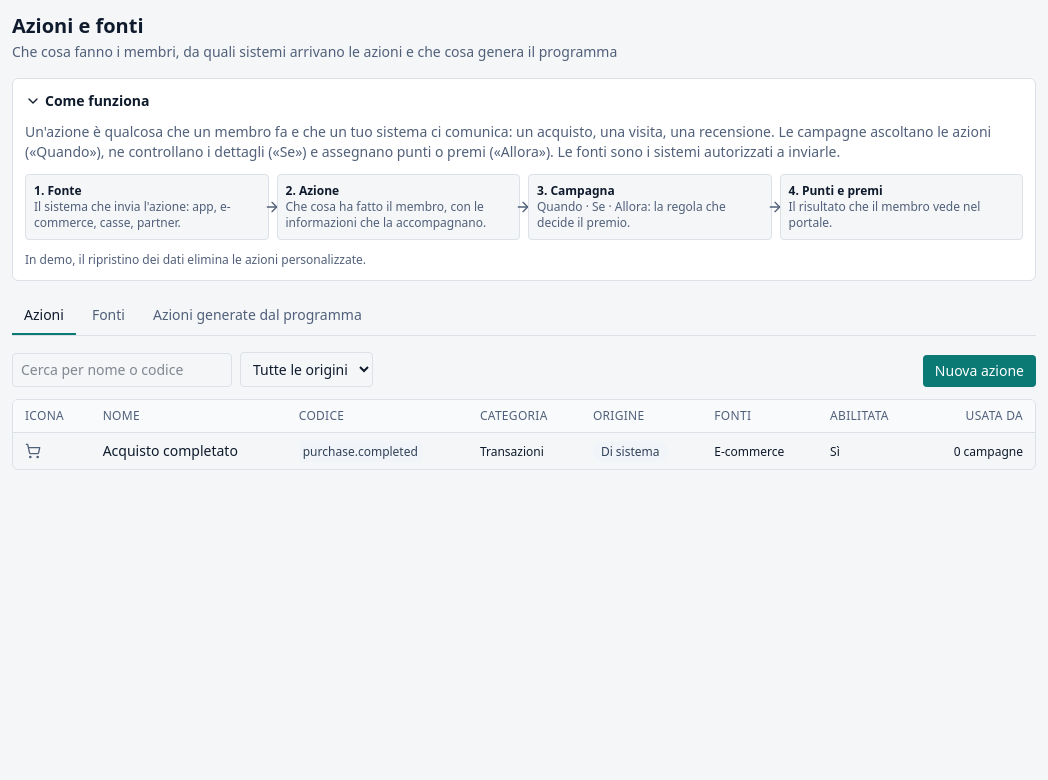
BO-09 azioni › filtro «Personalizzata» senza risultati: spiegazione e azione
Expected: the text "Acquisto completato" is shown, [103,441,238,460]
Select "Personalizzata" in the dropdown named "Origine": (306, 370) [240,352,373,387]
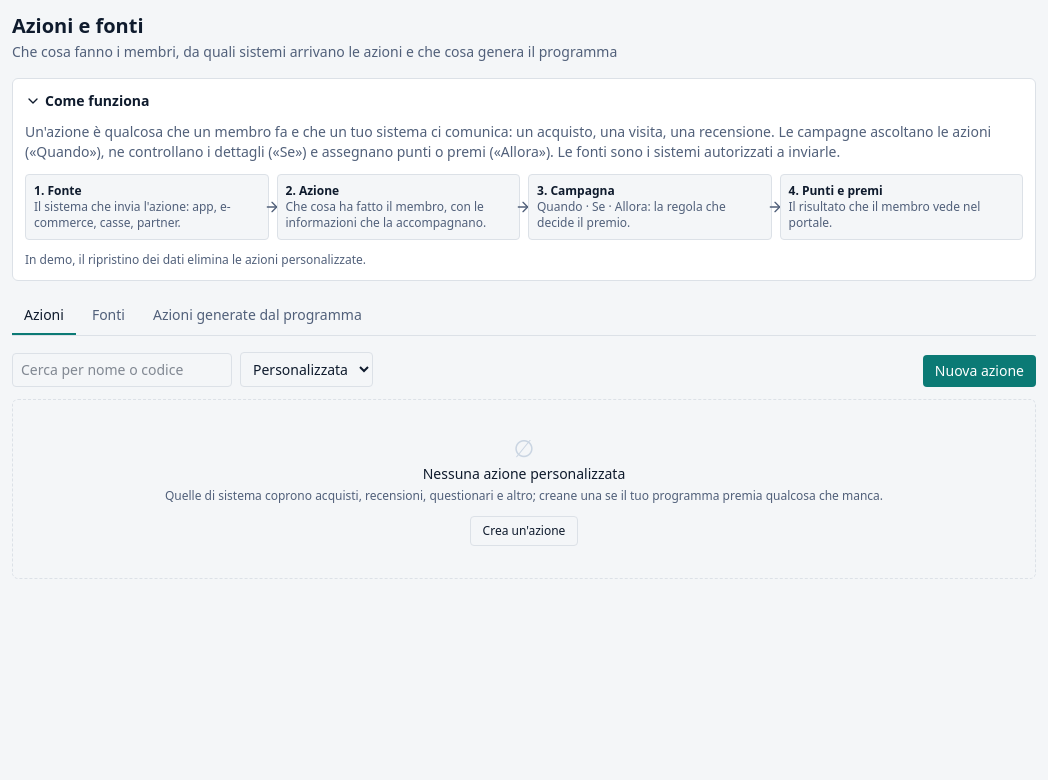
Now the text "Nessuna azione personalizzata" is shown, box [423,464,625,483]
Now the button "Crea un'azione" is shown, box [470,516,578,546]
